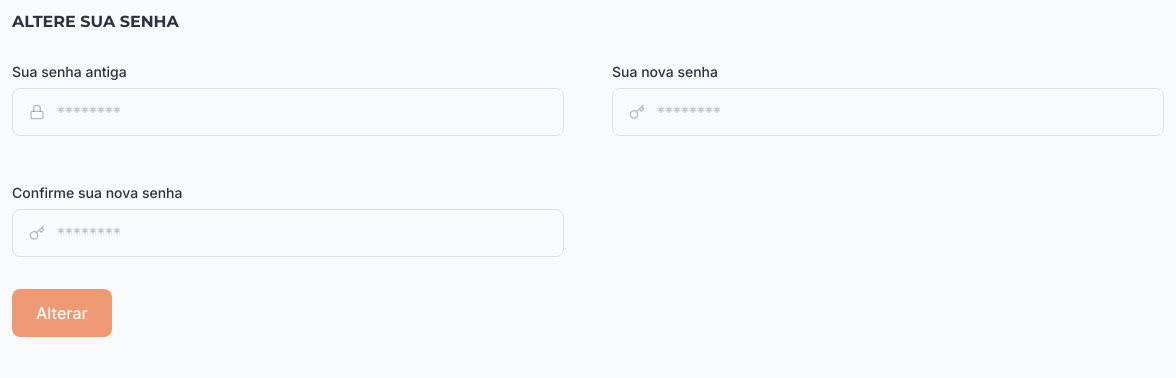
Test case: shows validation error when submit is clicked and password confirmation is different from new passowrd
This screenshot has width=1176, height=378.
Step 1. Type "old-password" into the password field labelled "Sua senha antiga" → (310, 112), box [57, 89, 563, 135]
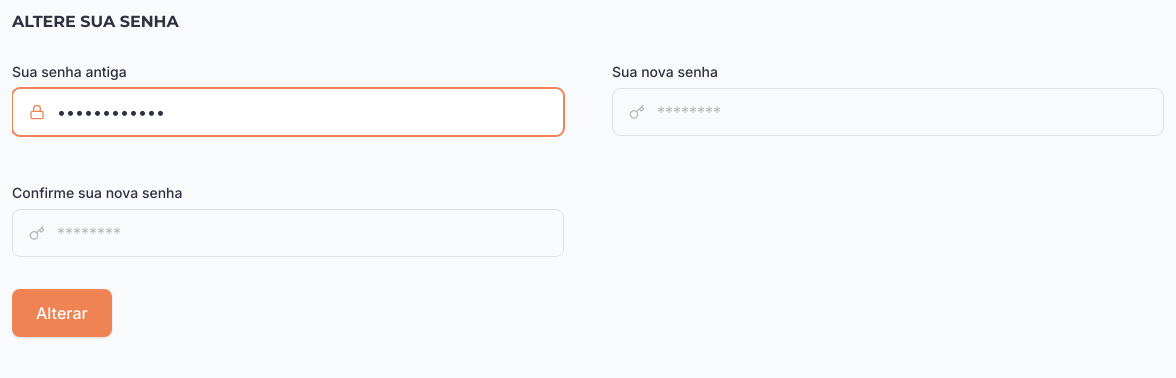
Step 2. Type "new-password" into the password field labelled "Sua nova senha" → (910, 112), box [657, 89, 1163, 135]
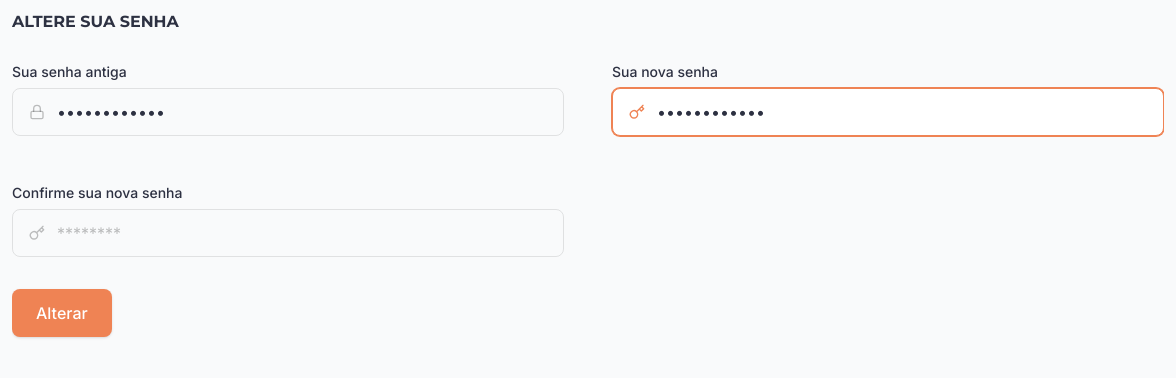
Step 3. Type "different-password" into the password field labelled "Confirme sua nova senha" → (310, 233), box [57, 210, 563, 256]
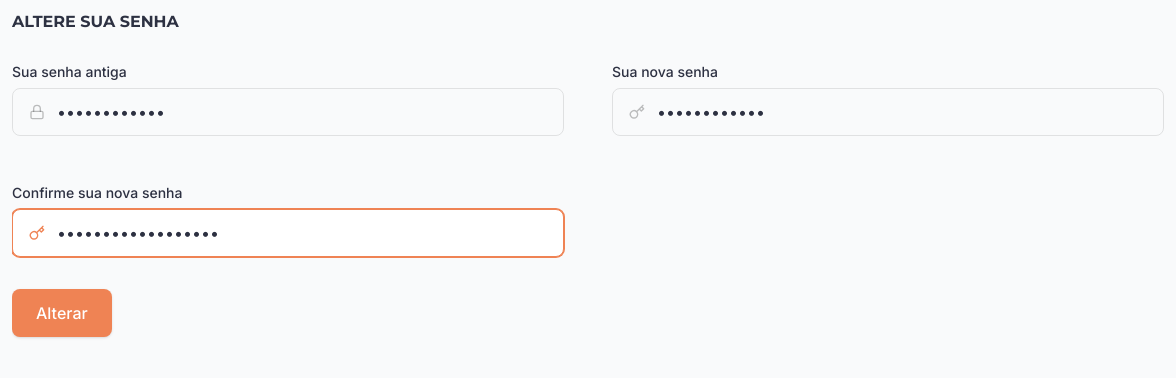
Step 4. Click the button "Alterar" → (62, 313), box [12, 289, 112, 337]
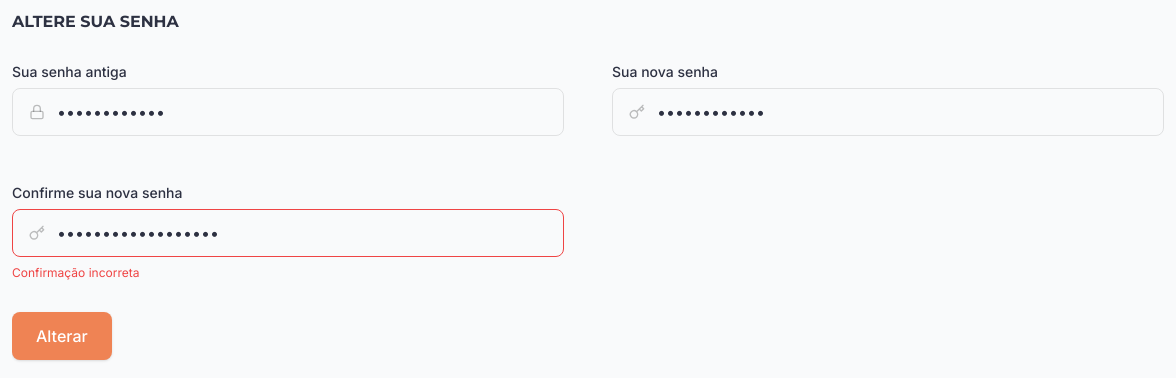
Now the text "Confirmação incorreta" is shown, box [12, 265, 139, 280]
